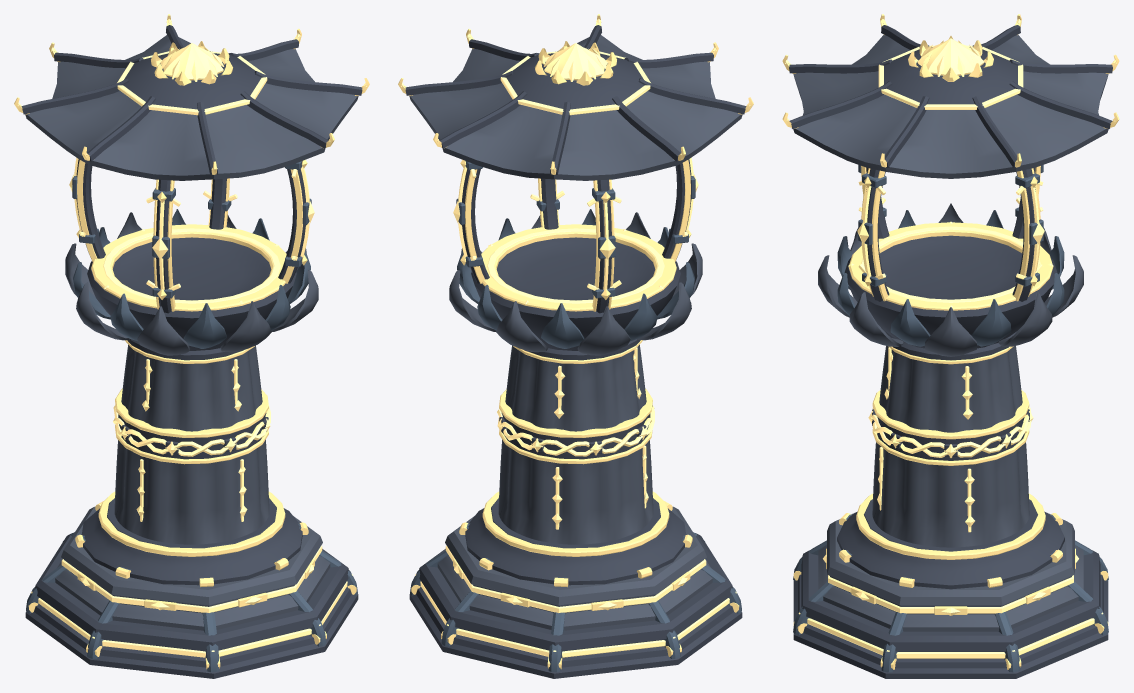
Rendered from stone_lantern.glb.
The picture shows the model from 3 angles, left to right: view 1: azimuth 30°, elevation 25°; view 2: azimuth 150°, elevation 25°; view 3: azimuth 270°, elevation 25°; orthographic projection.
Parts seen in each view (by area): view 1: Plinth_Obsidian, CrownCap_Eaves_Indigo, Column_Fluted_Indigo, Plinth_Indigo, CrownCap_Cornice_Obsidian, LotusBowl_Chalice_Obsidian, LotusBowl_OuterPetals_Indigo, LotusBowl_InnerPetals_Cobalt, LotusBowl_InnerRim_Brass, Plinth_Brass_Trim, Plinth_Gold_Inlays, CageRibs_Stone_Obsidian (+10 smaller); view 2: Plinth_Obsidian, CrownCap_Eaves_Indigo, Column_Fluted_Indigo, Plinth_Indigo, CrownCap_Cornice_Obsidian, LotusBowl_Chalice_Obsidian, LotusBowl_OuterPetals_Indigo, LotusBowl_InnerPetals_Cobalt, LotusBowl_InnerRim_Brass, Plinth_Brass_Trim, Plinth_Gold_Inlays, CageRibs_Stone_Obsidian (+10 smaller); view 3: Plinth_Obsidian, CrownCap_Eaves_Indigo, Column_Fluted_Indigo, Plinth_Indigo, LotusBowl_Chalice_Obsidian, CrownCap_Cornice_Obsidian, LotusBowl_OuterPetals_Indigo, Plinth_Brass_Trim, LotusBowl_InnerPetals_Cobalt, LotusBowl_InnerRim_Brass, Plinth_Gold_Inlays, Column_Belt_Brass (+10 smaller).
Part boxes in pixels (x1=…): Plinth_Obsidian: x1=25, y1=498, x2=358, y2=678; CrownCap_Eaves_Indigo: x1=25, y1=35, x2=358, y2=180; Column_Fluted_Indigo: x1=114, y1=344, x2=269, y2=544; Plinth_Indigo: x1=55, y1=506, x2=330, y2=630; CrownCap_Cornice_Obsidian: x1=21, y1=25, x2=362, y2=174; LotusBowl_Chalice_Obsidian: x1=87, y1=237, x2=296, y2=350; LotusBowl_OuterPetals_Indigo: x1=65, y1=212, x2=318, y2=355; LotusBowl_InnerPetals_Cobalt: x1=73, y1=209, x2=310, y2=348; LotusBowl_InnerRim_Brass: x1=91, y1=224, x2=286, y2=311; Plinth_Brass_Trim: x1=28, y1=491, x2=356, y2=669; Plinth_Gold_Inlays: x1=31, y1=545, x2=352, y2=657; CageRibs_Stone_Obsidian: x1=76, y1=159, x2=305, y2=313; Plinth_Obsidian: x1=409, y1=498, x2=742, y2=678; CrownCap_Eaves_Indigo: x1=409, y1=35, x2=742, y2=180; Column_Fluted_Indigo: x1=498, y1=344, x2=653, y2=544; Plinth_Indigo: x1=437, y1=506, x2=712, y2=630; CrownCap_Cornice_Obsidian: x1=405, y1=25, x2=746, y2=174; LotusBowl_Chalice_Obsidian: x1=471, y1=237, x2=680, y2=350; LotusBowl_OuterPetals_Indigo: x1=449, y1=212, x2=702, y2=355; LotusBowl_InnerPetals_Cobalt: x1=457, y1=209, x2=694, y2=348; LotusBowl_InnerRim_Brass: x1=481, y1=224, x2=676, y2=311; Plinth_Brass_Trim: x1=411, y1=491, x2=739, y2=669; Plinth_Gold_Inlays: x1=415, y1=545, x2=736, y2=657; CageRibs_Stone_Obsidian: x1=462, y1=159, x2=691, y2=313; Plinth_Obsidian: x1=793, y1=499, x2=1108, y2=678; CrownCap_Eaves_Indigo: x1=793, y1=35, x2=1108, y2=178; Column_Fluted_Indigo: x1=872, y1=346, x2=1029, y2=547; Plinth_Indigo: x1=818, y1=512, x2=1083, y2=631; LotusBowl_Chalice_Obsidian: x1=844, y1=235, x2=1057, y2=348; CrownCap_Cornice_Obsidian: x1=789, y1=25, x2=1112, y2=167; LotusBowl_OuterPetals_Indigo: x1=818, y1=203, x2=1083, y2=356; Plinth_Brass_Trim: x1=793, y1=493, x2=1108, y2=669; LotusBowl_InnerPetals_Cobalt: x1=837, y1=210, x2=1064, y2=346; LotusBowl_InnerRim_Brass: x1=848, y1=222, x2=1053, y2=310; Plinth_Gold_Inlays: x1=798, y1=555, x2=1103, y2=658; Column_Belt_Brass: x1=872, y1=346, x2=1029, y2=465.
Bounding box in the file's own units: 1.82 × 3.42 × 1.82.
